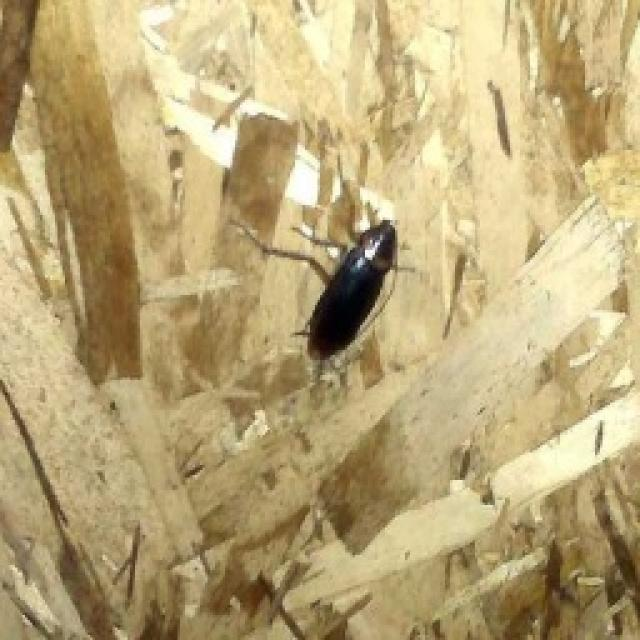cockroach: (274, 192, 411, 384)
